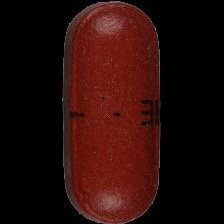53808-0205: (0, 0, 224, 224)
